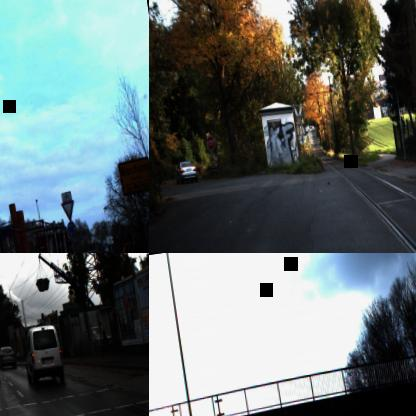STOP: (204, 134, 216, 150)
give way: (60, 198, 76, 223)
roundabout: (65, 221, 77, 238)
